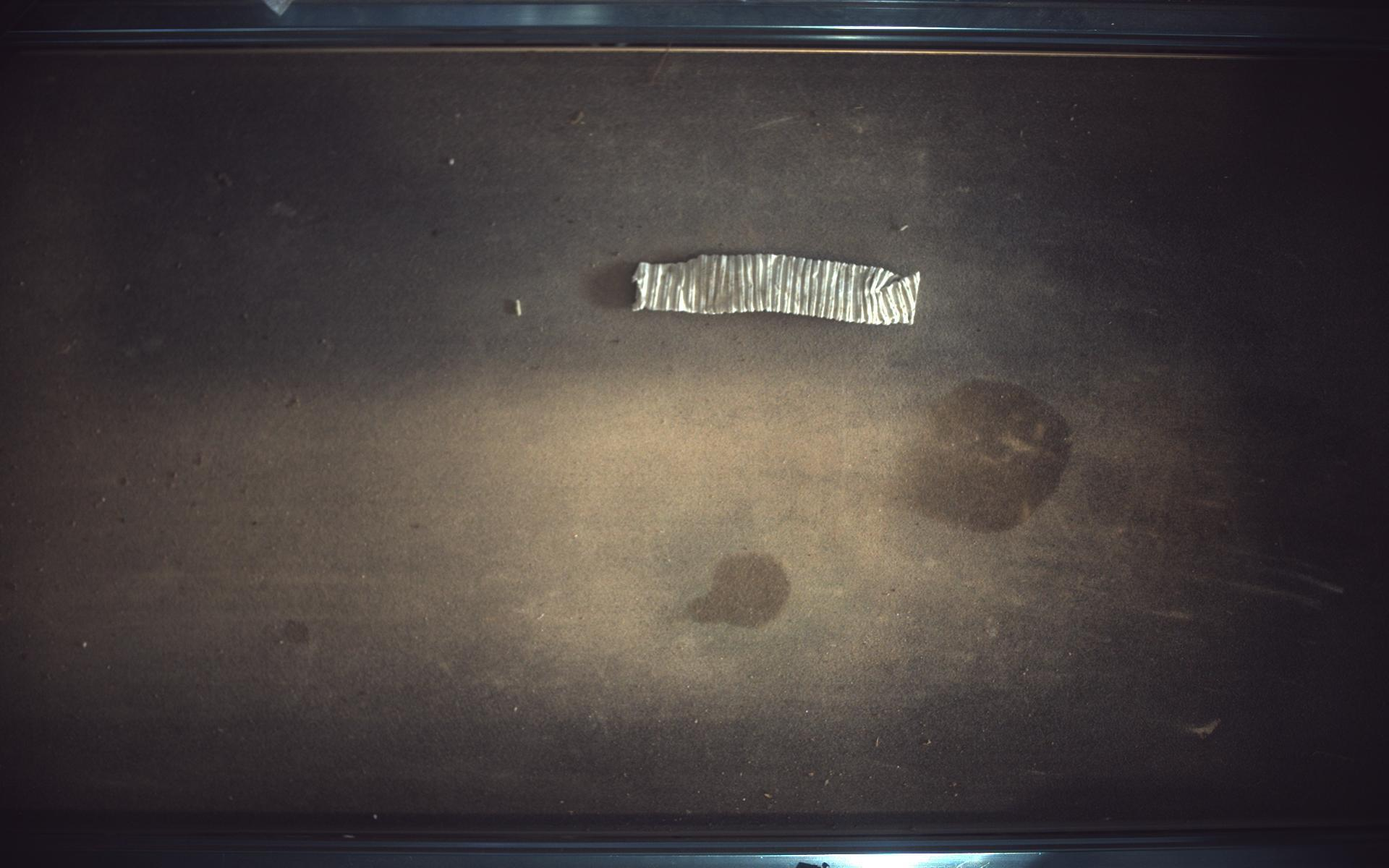pipes: (634, 252, 922, 325)
